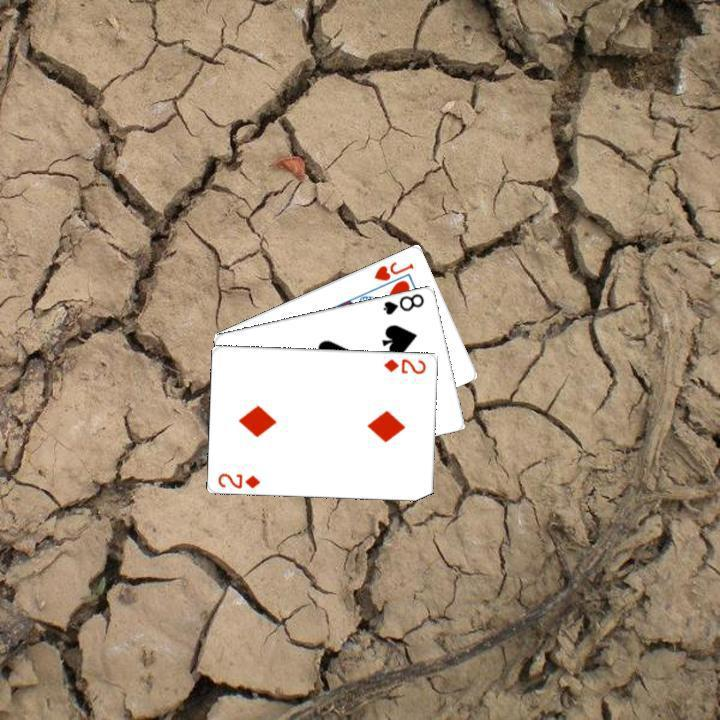2: (380, 354, 428, 375), (214, 469, 262, 490)
8: (379, 289, 426, 316)
J: (370, 257, 416, 282)
